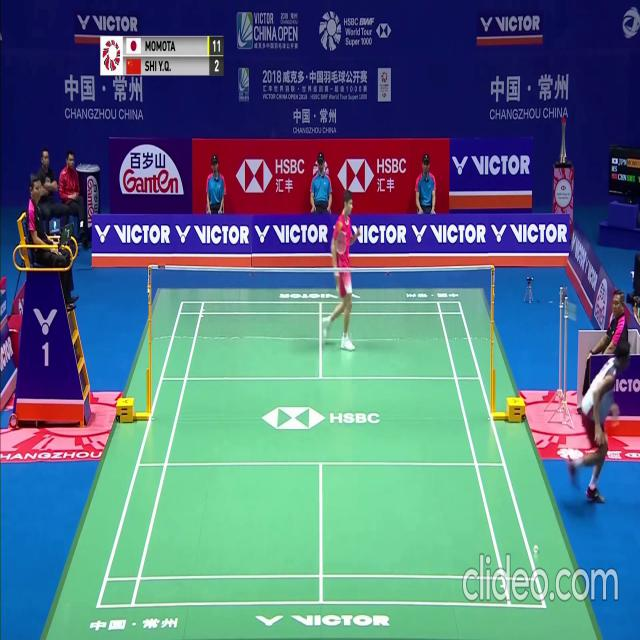Shuttlecock: (535, 544, 540, 551)
